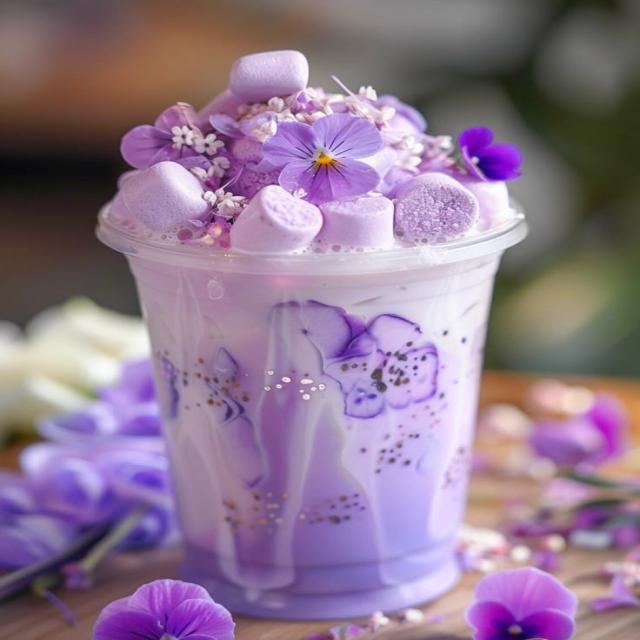plastic cup: (97, 52, 528, 622)
